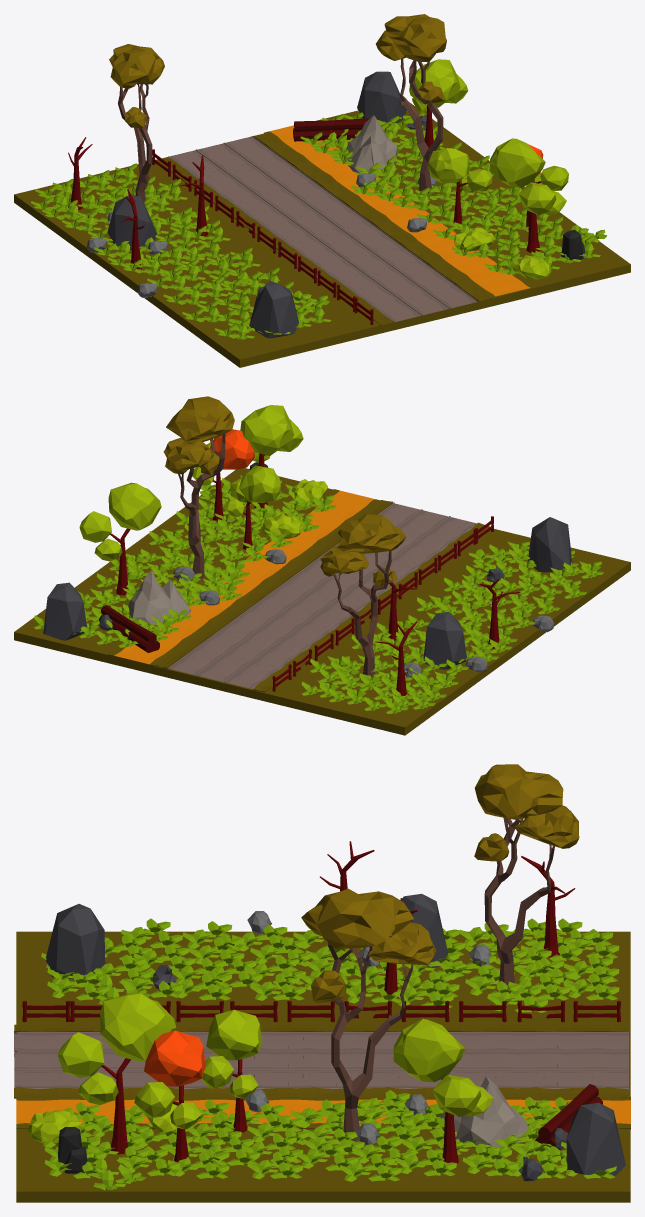
File: Forest Area 7.fbx
3 views of the same model, one above another, from view 1: azimuth 30°, elevation 25°; view 2: azimuth 150°, elevation 25°; view 3: azimuth 270°, elevation 25° (orthographic). The views are drawn at different scales.
Parts seen in each view (by area): view 1: SM_Env_Grass_01.057, Plane.007, SM_Env_Tree_02.008, SM_Env_Tree_02.009, Tree1.031, Plant_1_1.030, Tree1.028, Rock_04.021, Tree1.030, Rock_04.019, Rock10.003, Rock_04.022 (+8 smaller); view 2: SM_Env_Grass_01.057, Plane.007, SM_Env_Tree_02.008, SM_Env_Tree_02.009, Tree1.030, Tree1.031, Plant_1_1.030, Tree1.028, Rock_04.019, Rock_04.021, Rock10.003, Rock_04.022 (+7 smaller); view 3: Plane.007, SM_Env_Grass_01.057, SM_Env_Tree_02.008, SM_Env_Tree_02.009, Tree1.031, Tree1.030, Plant_1_1.030, Tree1.029, Tree1.028, Rock_04.019, Rock_04.021, Rock10.003 (+5 smaller).
Part boxes in pixels (x1,y1,x2,y2): SM_Env_Grass_01.057: (156,125,536,325); Plane.007: (14,102,630,367); SM_Env_Tree_02.008: (376,14,446,194); SM_Env_Tree_02.009: (109,44,164,202); Tree1.031: (489,138,566,252); Plant_1_1.030: (152,149,373,324); Tree1.028: (427,148,492,223); Rock_04.021: (249,280,298,338); Tree1.030: (409,59,468,147); Rock_04.019: (357,71,406,122); Rock10.003: (346,115,397,173); Rock_04.022: (107,196,157,249); SM_Env_Grass_01.057: (108,489,489,692); Plane.007: (14,468,630,735); SM_Env_Tree_02.008: (163,396,234,579); SM_Env_Tree_02.009: (320,513,406,676); Tree1.030: (79,482,161,595); Tree1.031: (240,405,303,509); Plant_1_1.030: (272,516,493,691); Tree1.028: (223,465,280,549); Rock_04.019: (43,582,87,640); Rock_04.021: (528,517,572,572); Rock10.003: (126,570,190,625); Rock_04.022: (423,612,466,669); Plane.007: (16,931,630,1202); SM_Env_Grass_01.057: (14,1024,630,1129); SM_Env_Tree_02.008: (301,888,436,1140); SM_Env_Tree_02.009: (474,764,579,985); Tree1.031: (57,992,176,1154); Tree1.030: (393,1018,493,1163); Plant_1_1.030: (22,996,620,1022); Tree1.029: (134,1030,205,1162); Tree1.028: (201,1009,261,1132); Rock_04.019: (566,1102,625,1175); Rock_04.021: (46,904,105,979); Rock10.003: (440,1076,528,1148).
Size of what is drawn, in the model's own units: 10529 by 4487 by 10039.
